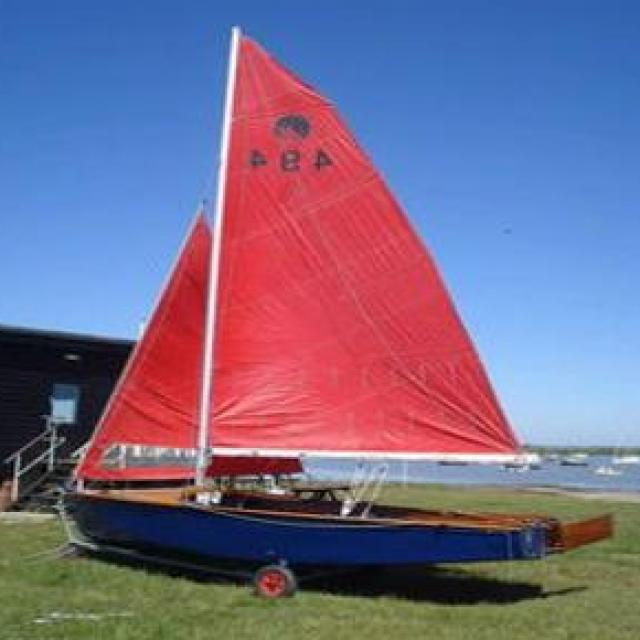sailboat: (60, 27, 618, 571)
